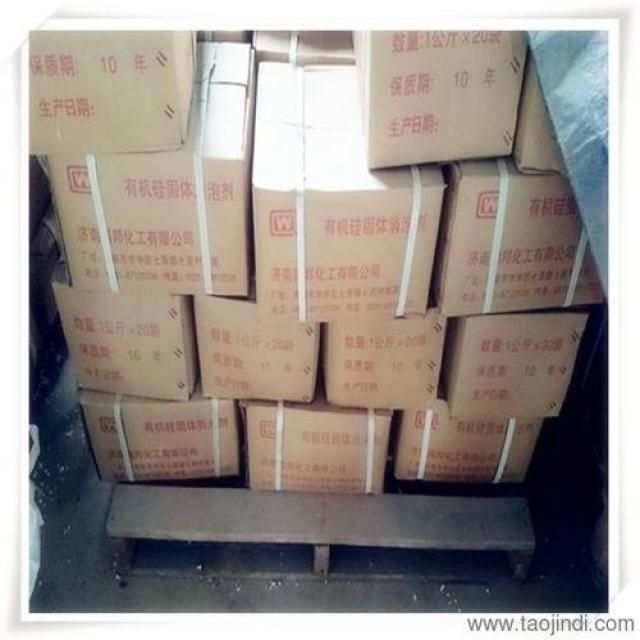box: (45, 43, 253, 296), (252, 64, 448, 318), (432, 157, 606, 319), (242, 320, 395, 493), (350, 33, 528, 168), (52, 241, 200, 400), (30, 30, 201, 154), (78, 377, 239, 485), (438, 308, 590, 417), (191, 295, 323, 402), (397, 388, 545, 483), (323, 293, 446, 406), (511, 47, 567, 172), (253, 33, 356, 65), (198, 32, 249, 44)
